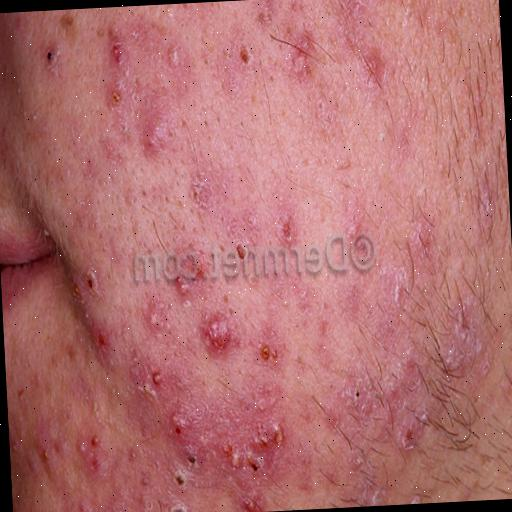Skin_Lesion: (256, 336, 286, 370)
